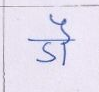ai_matra: (49, 14, 73, 39)
